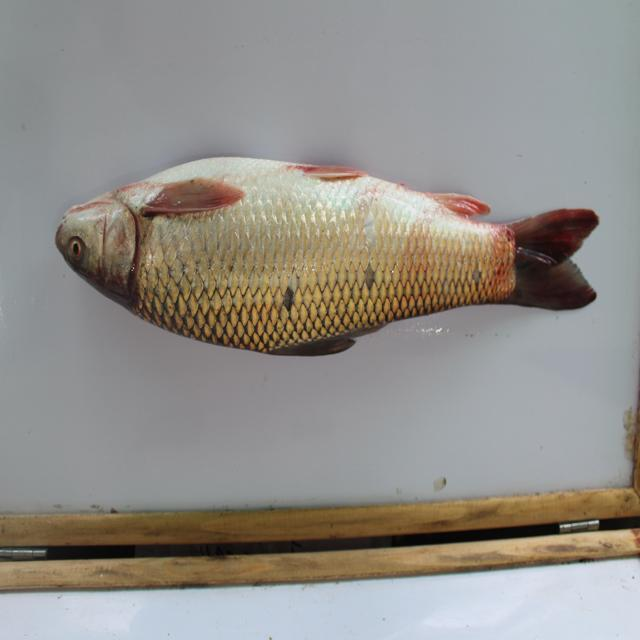Grass Carp: (53, 143, 599, 360)
